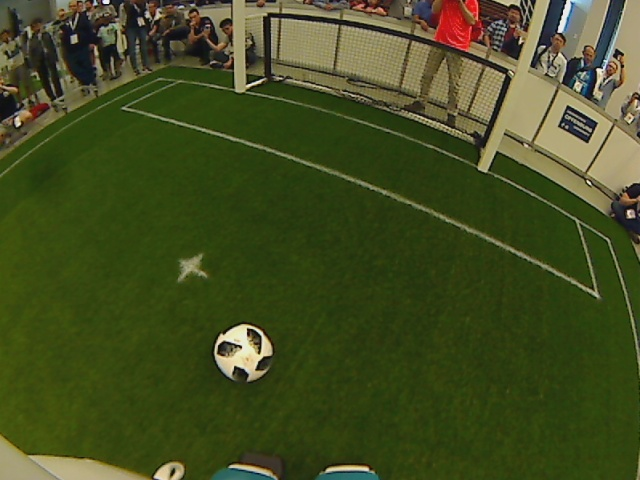ball: (211, 322, 276, 386)
goalpost: (466, 151, 499, 184), (223, 72, 253, 105)
